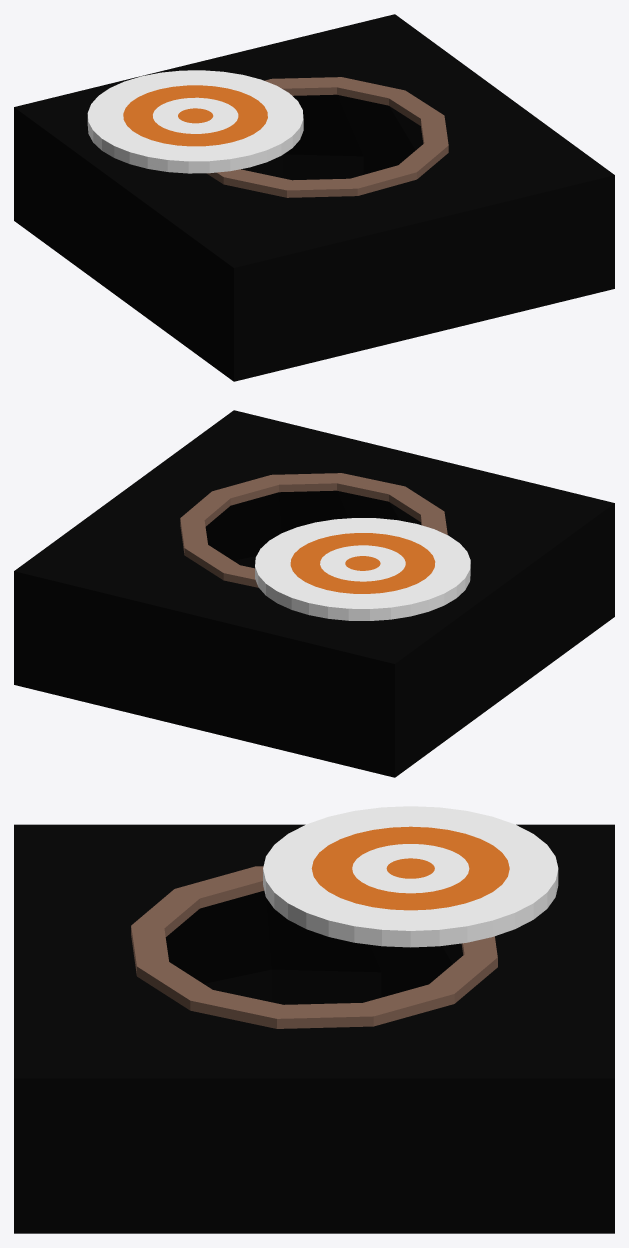
The model's file is Pothole.fbx.
The picture shows the model from 3 angles, top to bottom: view 1: azimuth 30°, elevation 25°; view 2: azimuth 150°, elevation 25°; view 3: azimuth 270°, elevation 25°; orthographic projection. The views are drawn at different scales.
Visible parts, largest first — view 1: Pothole; view 2: Pothole; view 3: Pothole.
Part boxes in pixels (<box>): Pothole: <box>14,14,614,381</box>; Pothole: <box>14,410,614,777</box>; Pothole: <box>14,806,614,1233</box>.
Bounding box in the file's own units: 407 × 136 × 407.
